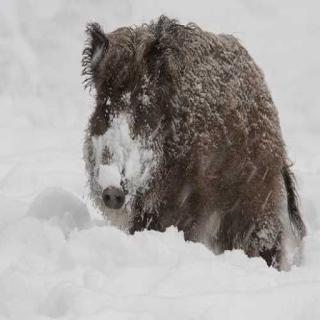Pig: (60, 2, 320, 283)
